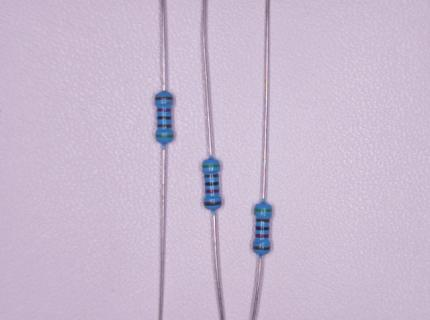Black band: (255, 226, 270, 231), (205, 181, 220, 186), (157, 116, 172, 120)
Brown band: (154, 96, 174, 101), (252, 246, 271, 251), (204, 201, 222, 206), (157, 124, 172, 129), (256, 218, 270, 223), (204, 174, 219, 178)
Green band: (253, 207, 273, 213), (155, 134, 174, 138), (202, 164, 221, 168)
Red band: (255, 233, 269, 239), (205, 189, 220, 194), (157, 108, 171, 113)
